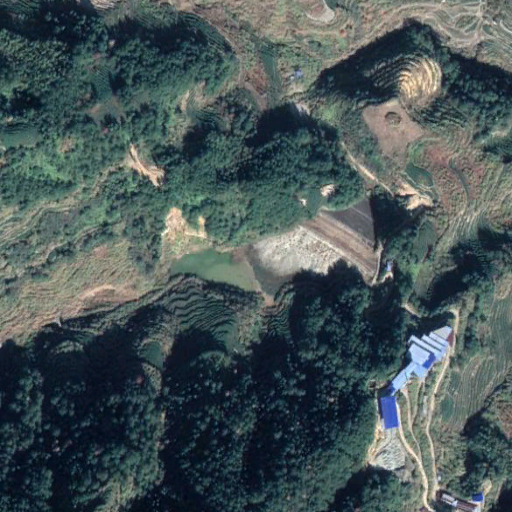tp: (167, 190, 384, 307)
